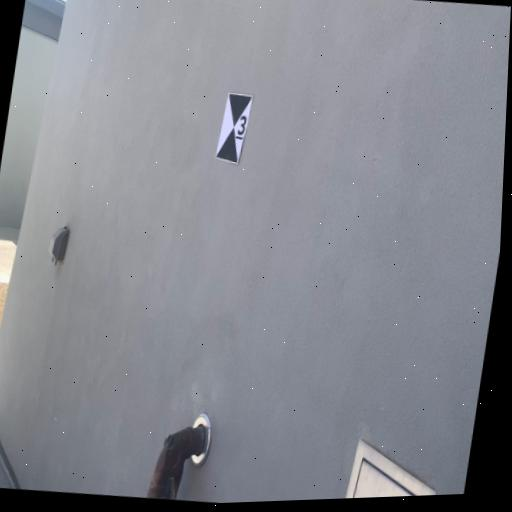target3: (213, 91, 255, 164)
